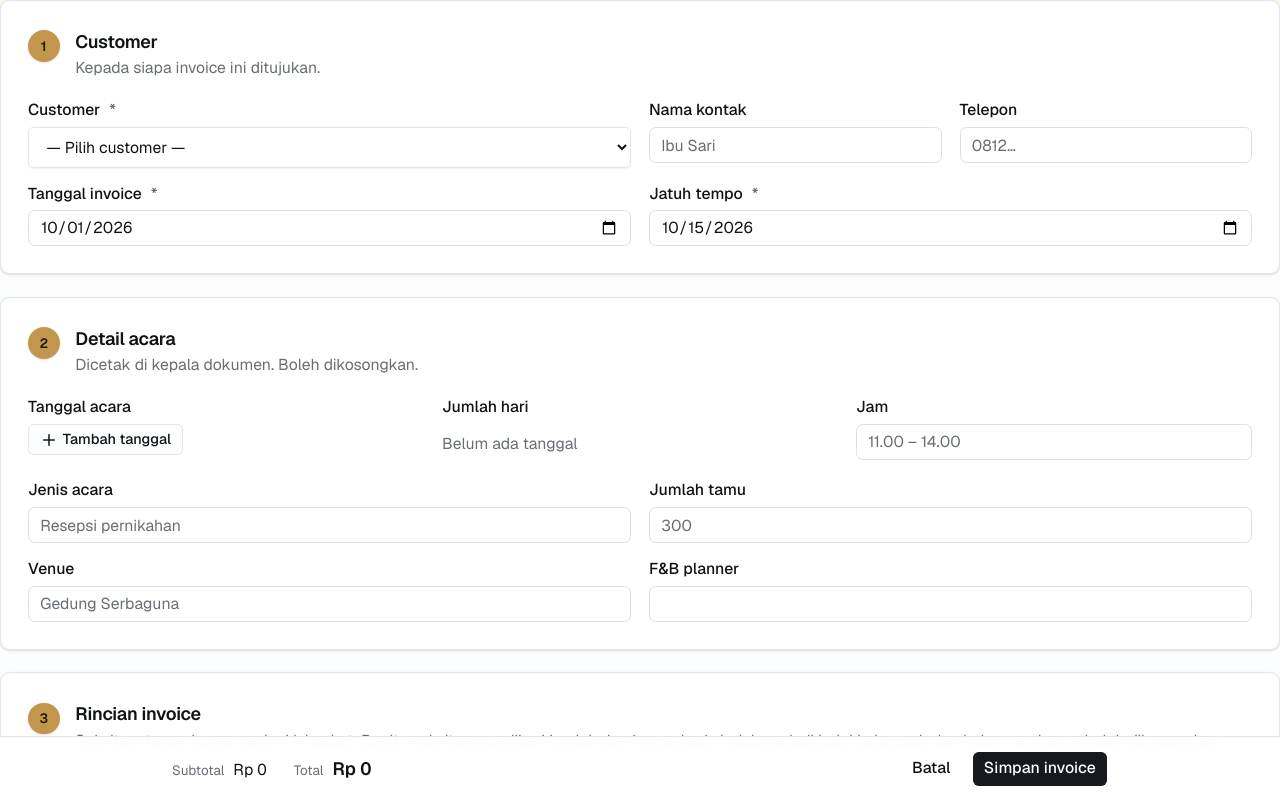
FormDokumen — memilih customer › MENGGANTI kontak ketika customernya diganti
Select "House of Sekar (CUST-0001) · Ibu Yuniar" in the dropdown labelled "Customer *" at coordinates (330, 147), box [28,127,631,168]
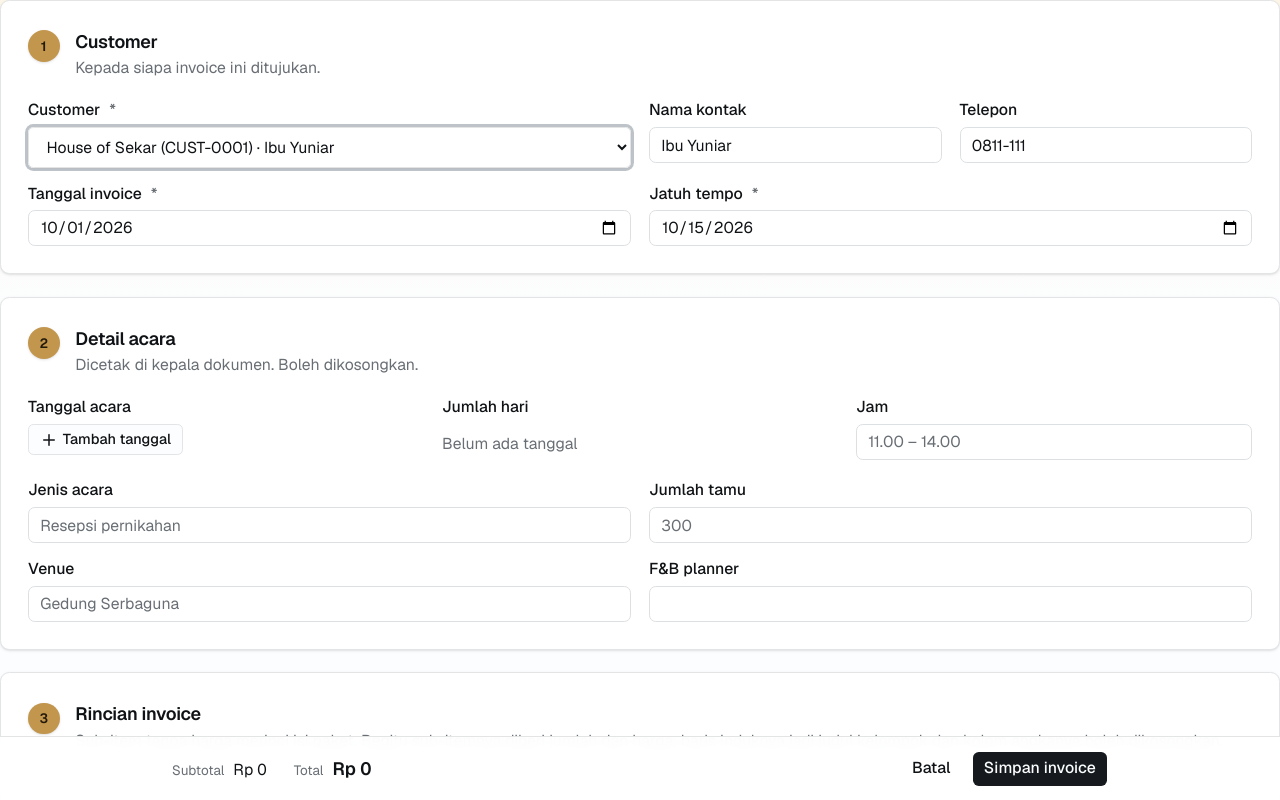
Select "MEY Bakery (CUST-0002) · Ibu Amey" in the dropdown labelled "Customer *" at coordinates (330, 147), box [28,127,631,168]
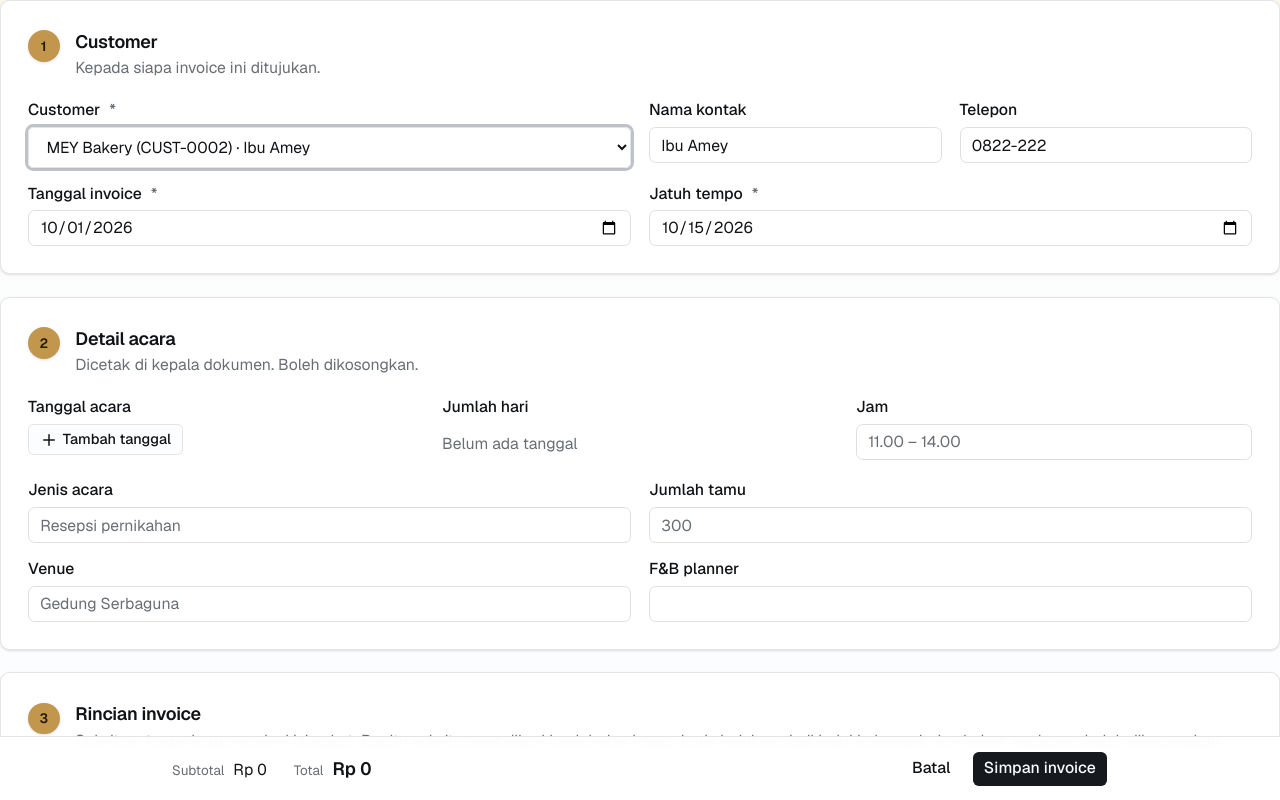
Check: the field labelled "Nama kontak" holds "Ibu Amey", box [649,127,942,163]
Check: the field labelled "Telepon" holds "0822-222", box [960,127,1252,163]
